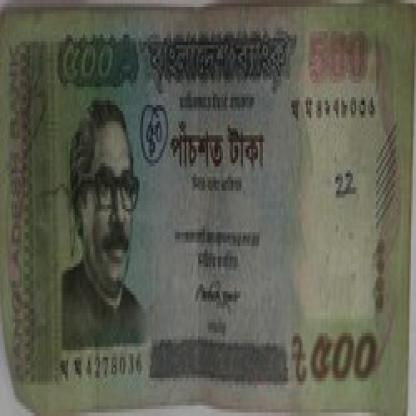500 taka: (160, 107, 280, 177), (38, 31, 140, 94)
currency: (3, 7, 415, 415)
